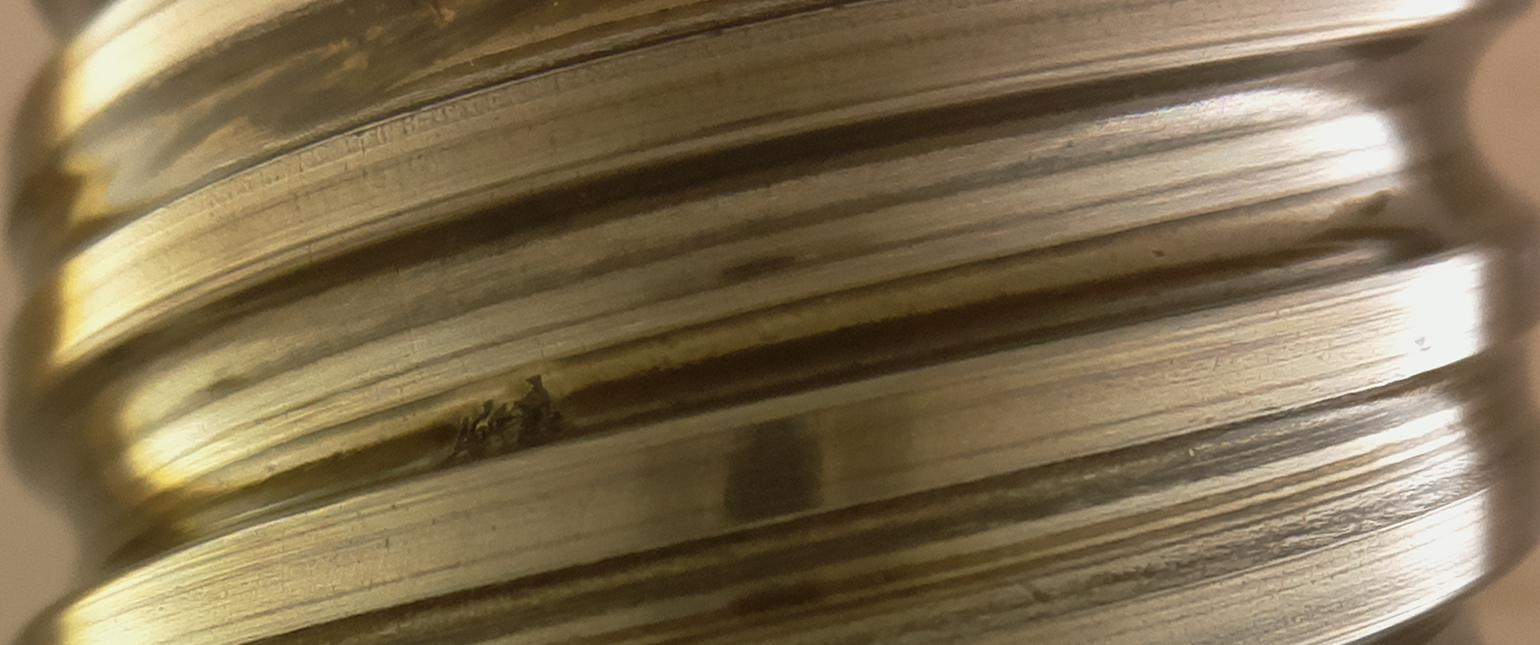pitting: (441, 374, 572, 464)
